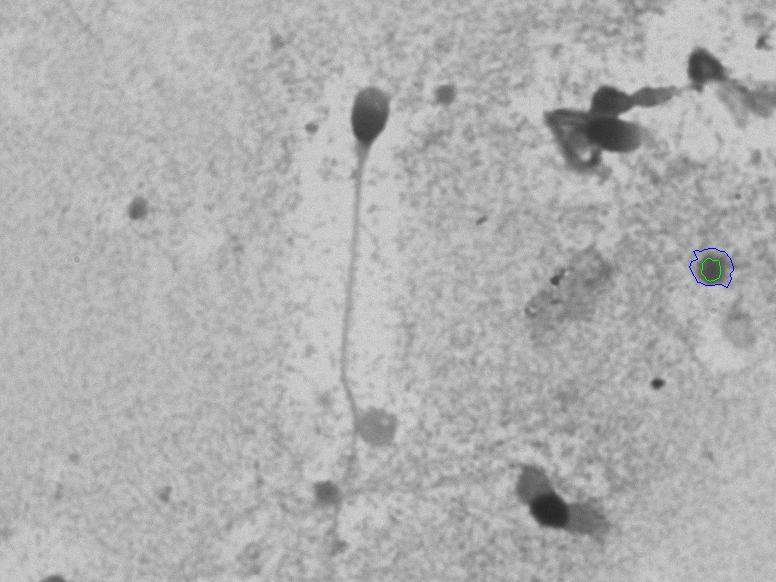Abnormal: (470, 388, 630, 548), (532, 89, 677, 202)
Normal: (293, 30, 420, 545)
